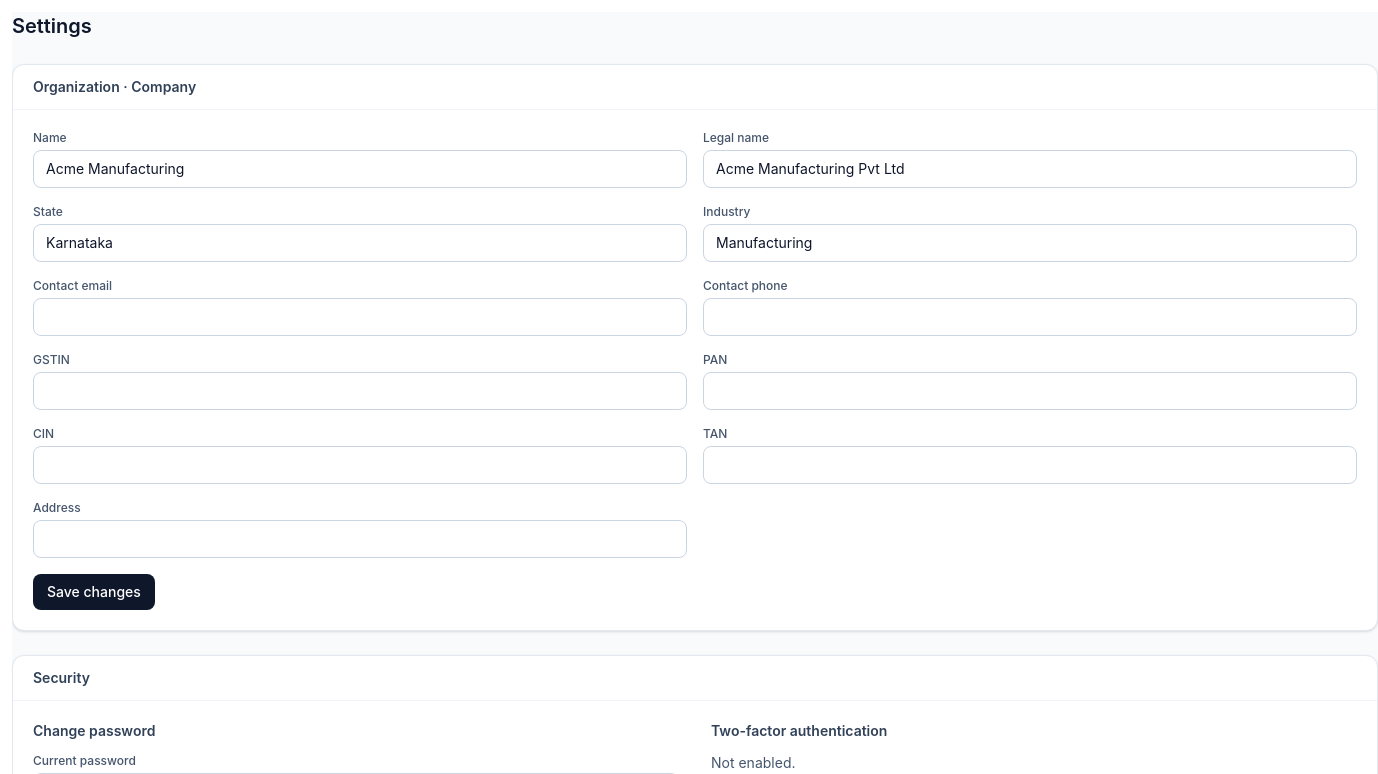
it: SettingsPage › OrganizationCard › saves edited fields, sending blanks as null and dropping unedited identifiers
This screenshot has width=1378, height=774.
Expected: the field labelled "Name" is shown, [33,150,687,188]
Clear the field labelled "Industry". click: x=1030, y=243
box: [703,224,1357,262]
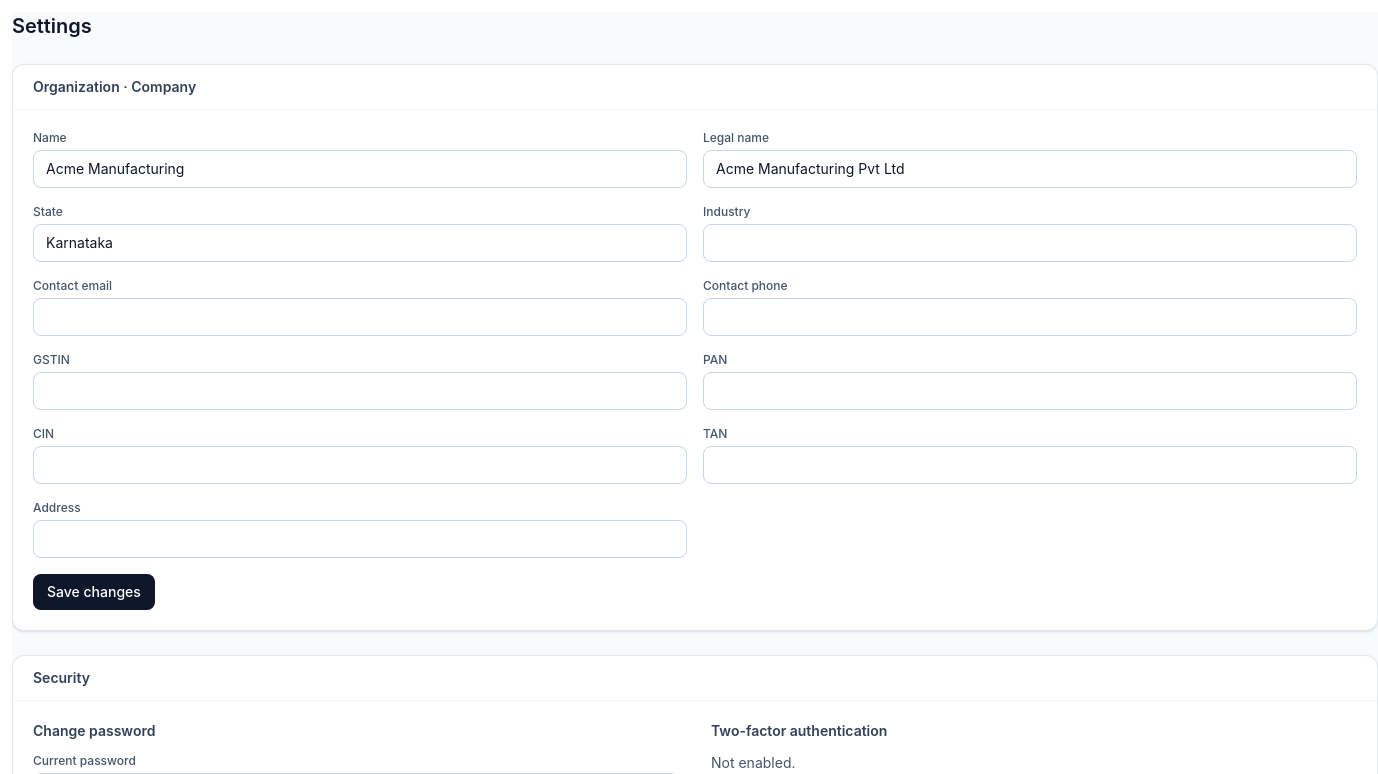
Type "29ABCDE1234F1Z5" into the field labelled "GSTIN". click: x=360, y=391
box: [33,372,687,410]
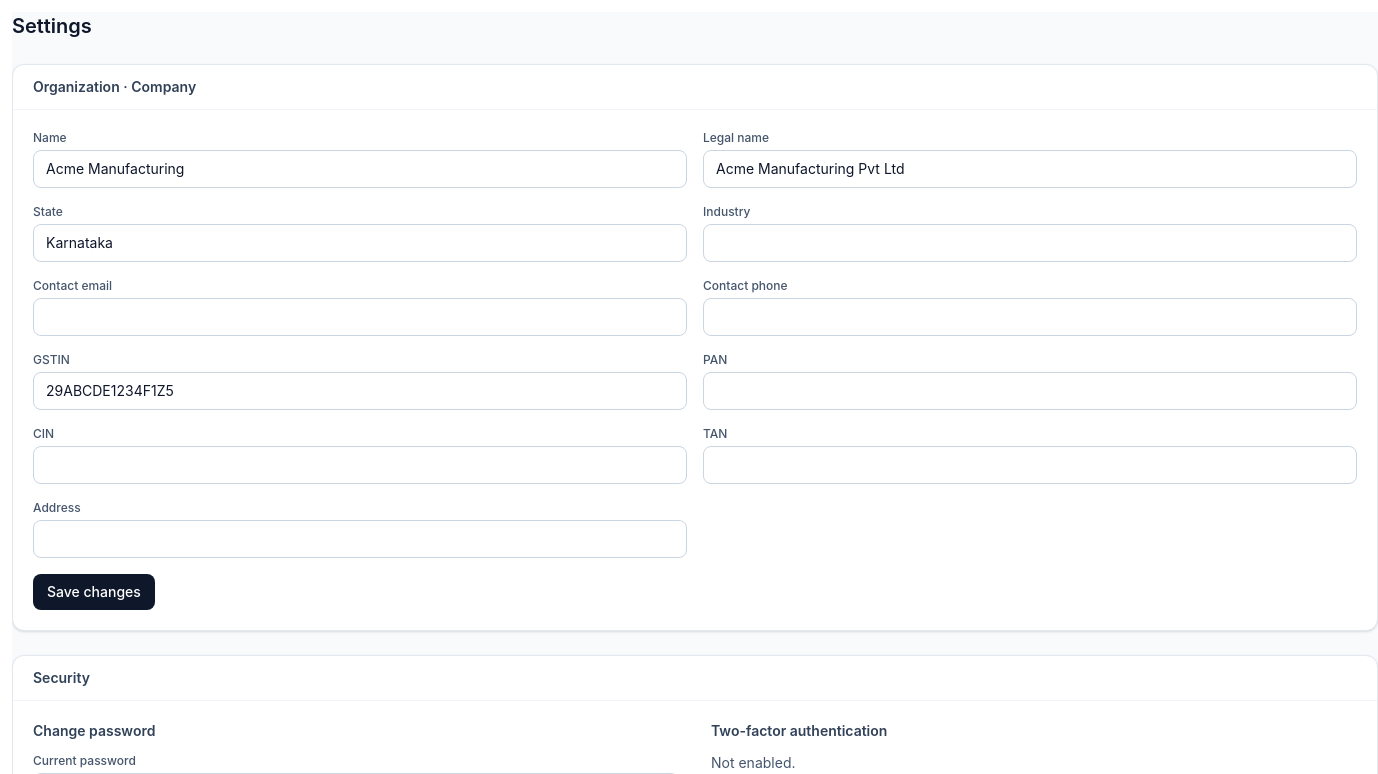
Click the button "Save changes". click: x=94, y=592
box: [33,574,155,610]
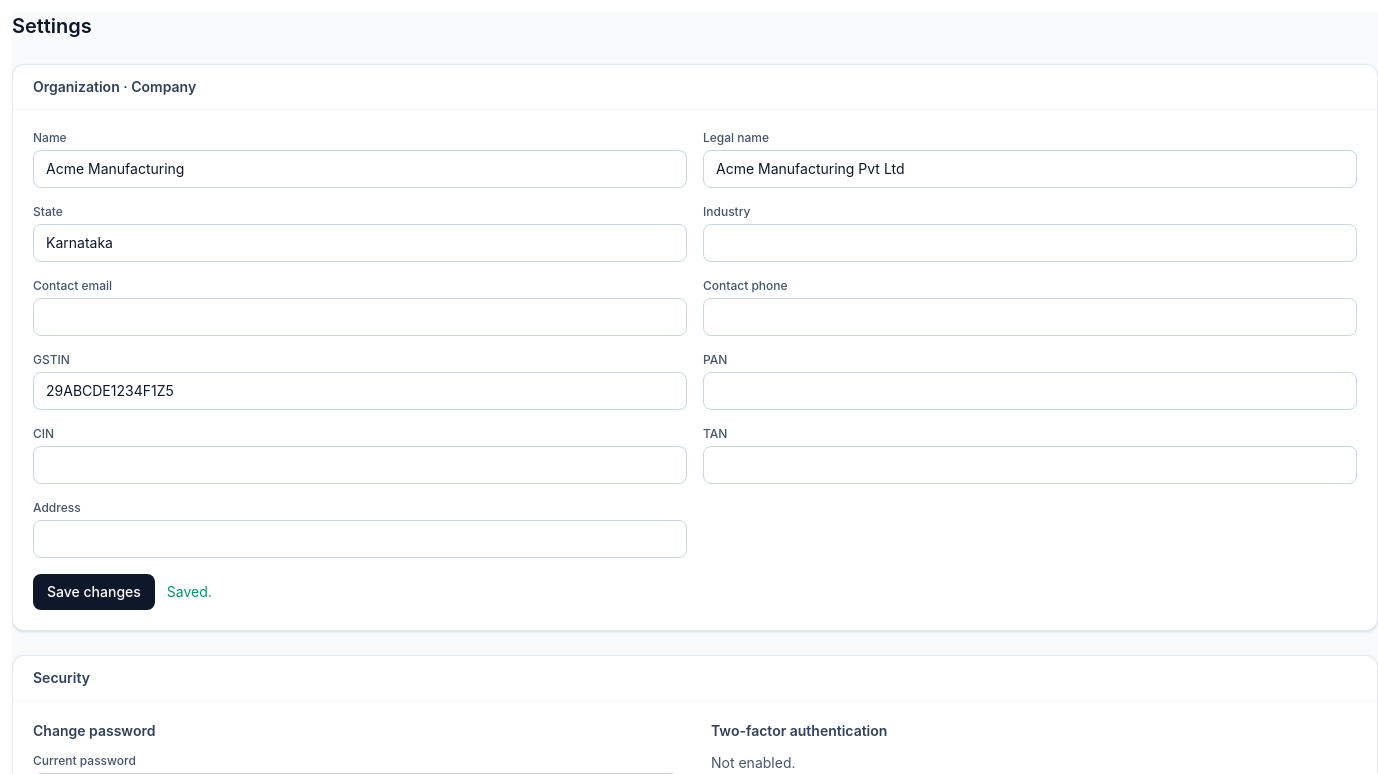
Expected: the text "Saved." is shown, [167,582,212,602]
